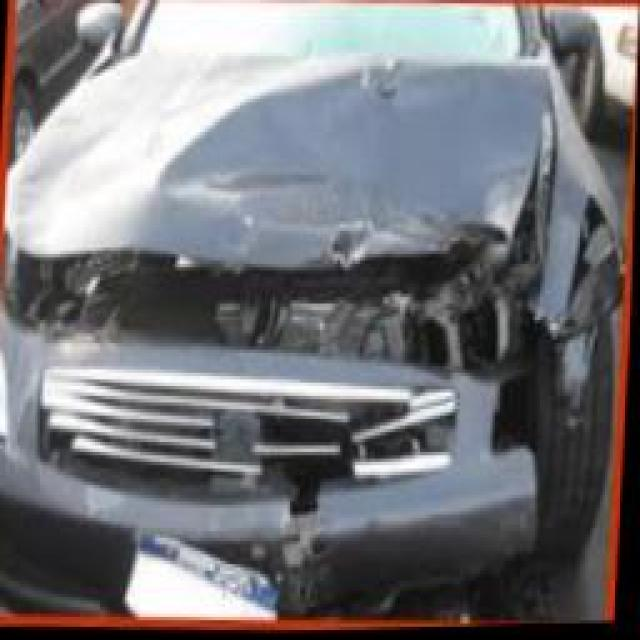Bonnet: (4, 40, 557, 301)
Bumper: (102, 444, 549, 629)
Light: (412, 277, 541, 380)
